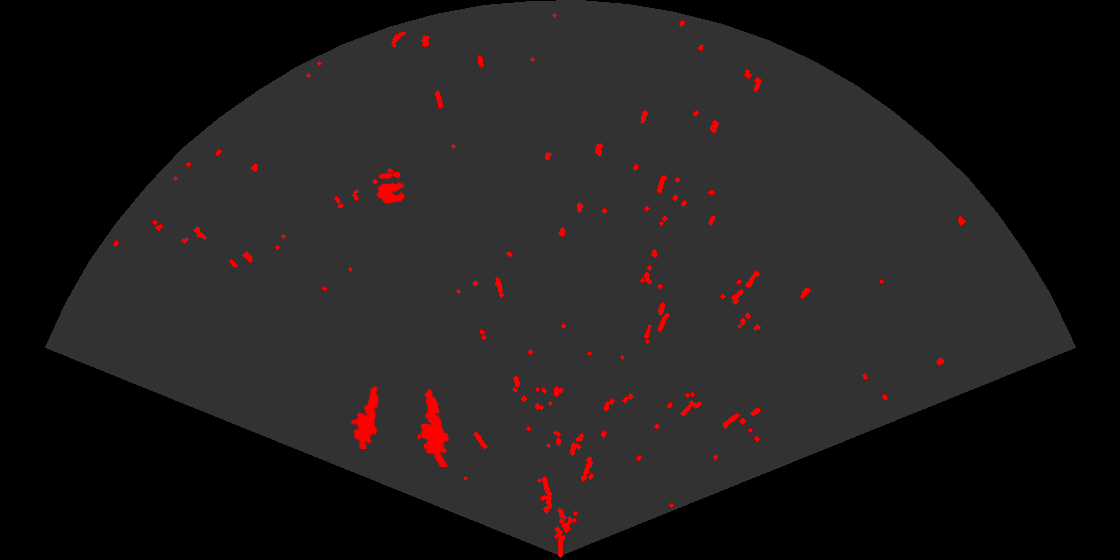ball: (375, 170, 407, 205)
frogman: (416, 387, 451, 467), (349, 384, 380, 449)
